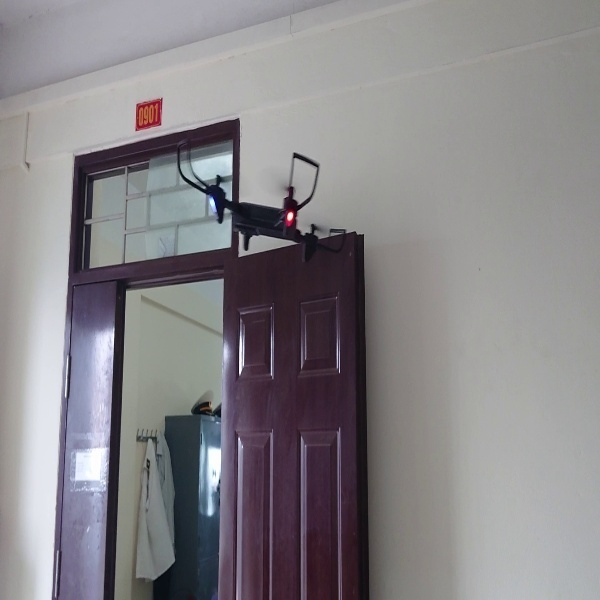drone: (174, 138, 349, 261)
